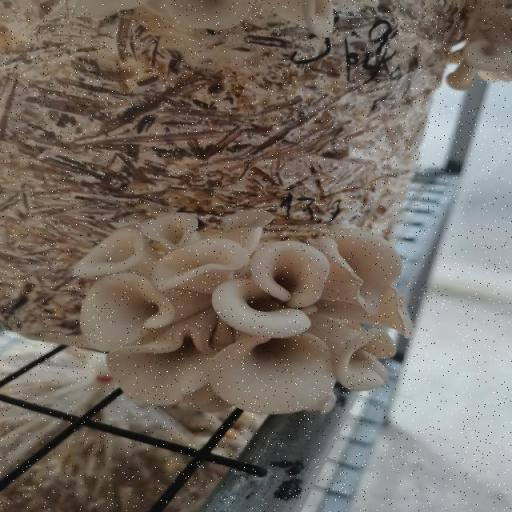White Oyster Mushroom: (82, 205, 412, 419)
